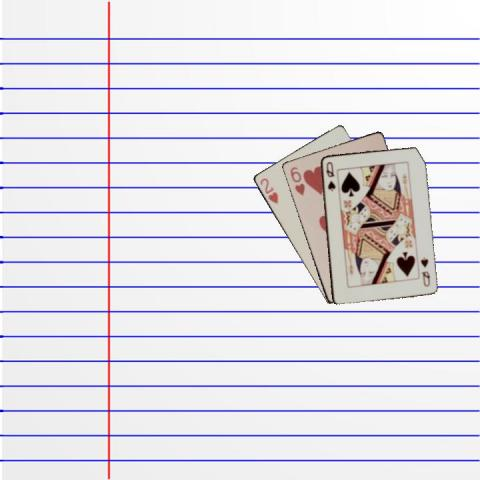2h: (257, 174, 279, 204)
6h: (287, 163, 306, 197)
Qs: (322, 159, 336, 192), (418, 255, 432, 288)
